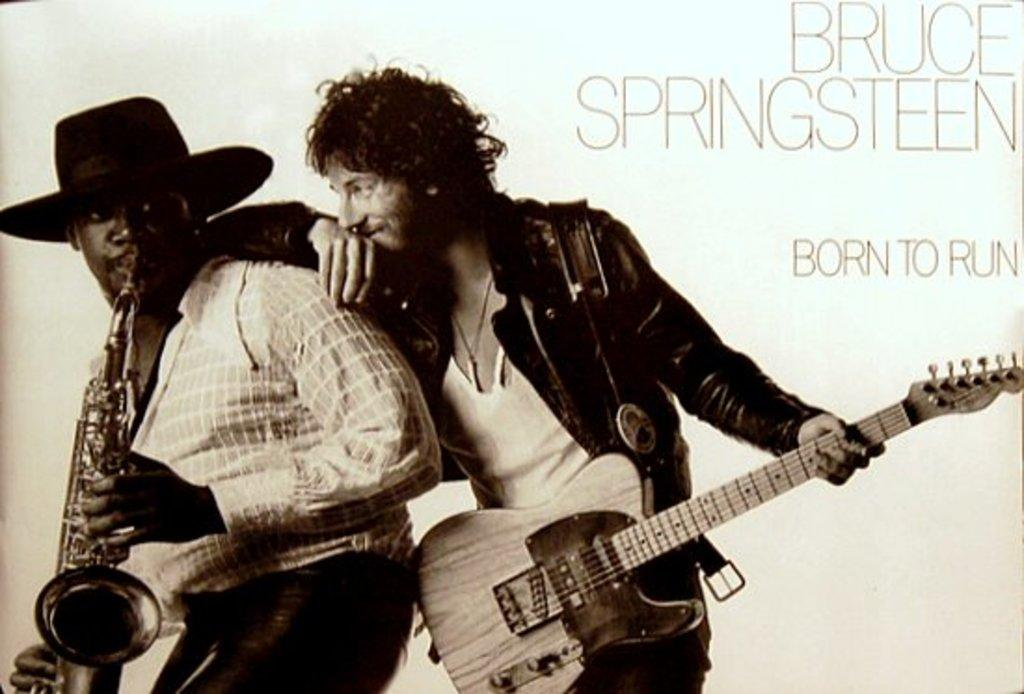Hat: (0, 94, 279, 246)
